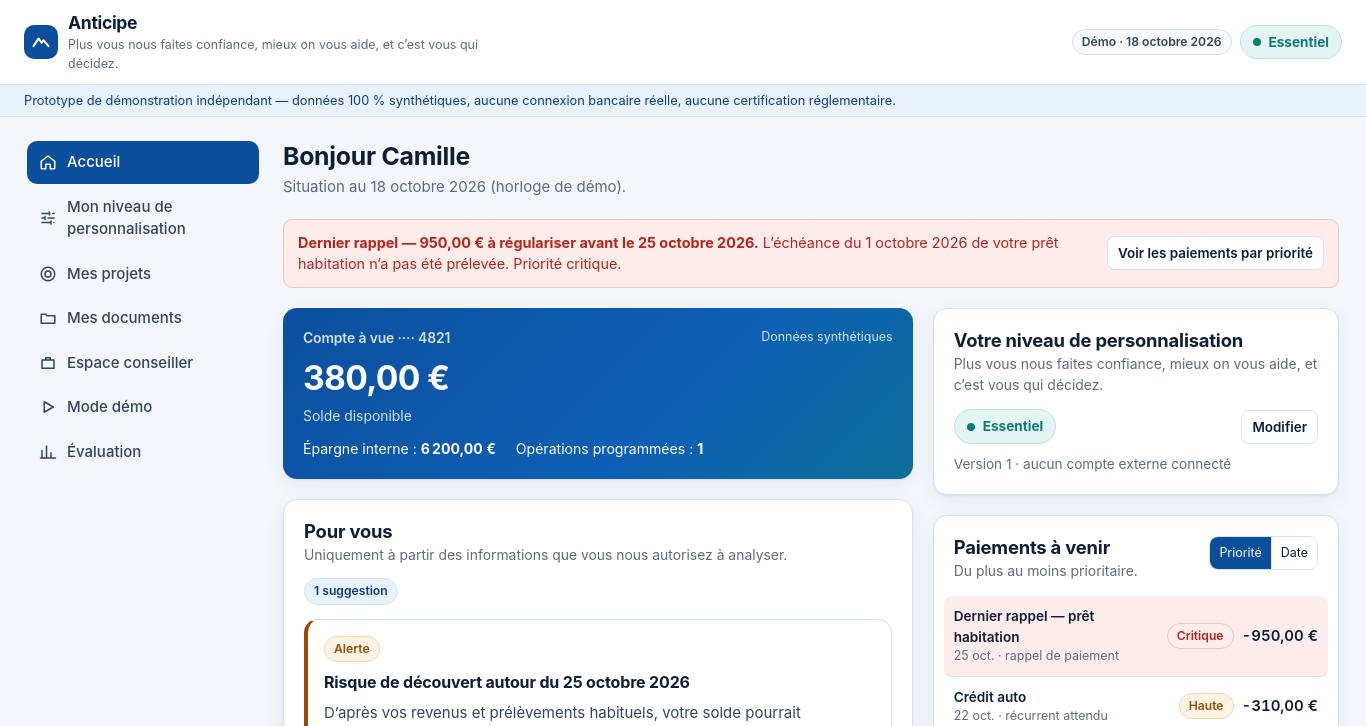
Test: parcours Julien dans l’interface › accueil de Camille : dernier rappel en tête des paiements par priorité
The image size is (1366, 726).
Expected: the message shows "Dernier rappel", [298, 234, 398, 250]
Expected: the list item that starts with "Dernier rappel — prêt habitation" is shown, [954, 608, 1094, 644]
What coordinates should you click on to do the following:
click the button "Date"
I would click on:
 (1294, 553)
Its box is [1272, 537, 1317, 569].
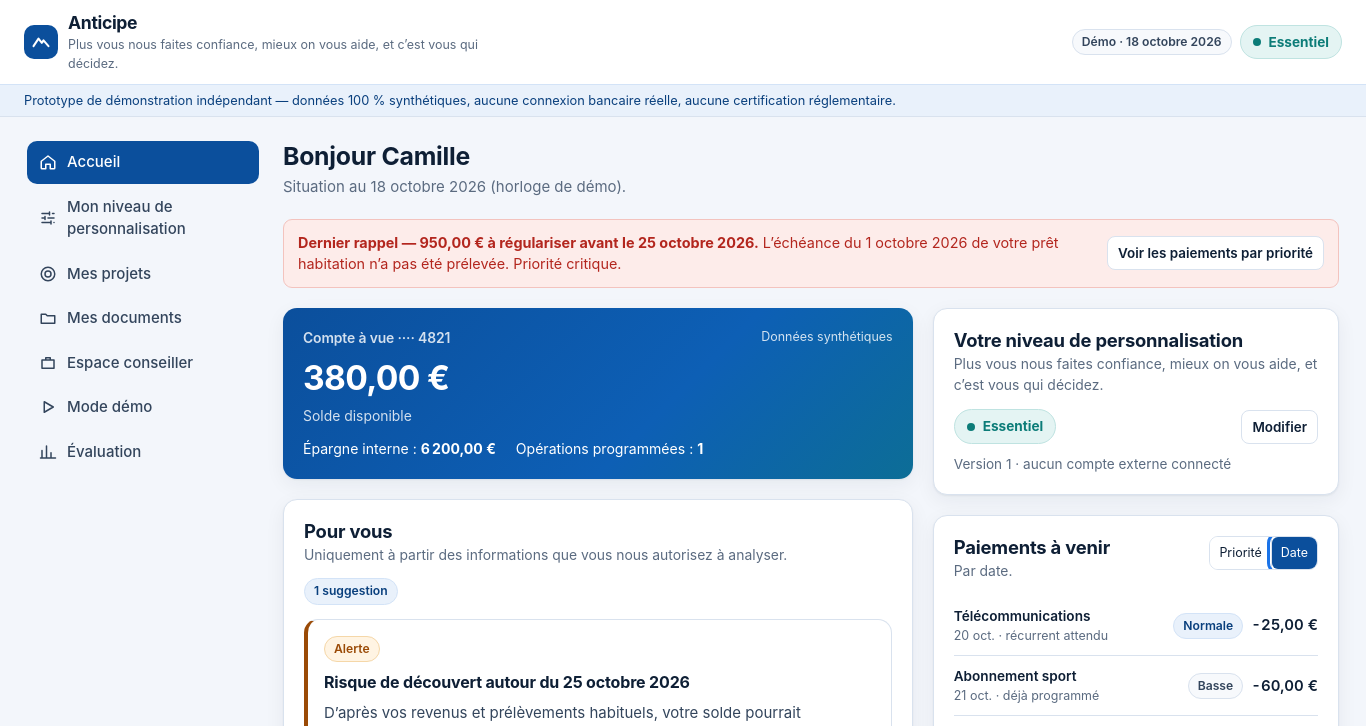
Expected: the list item that starts with "Télécommunications" is shown, [954, 608, 1090, 624]
